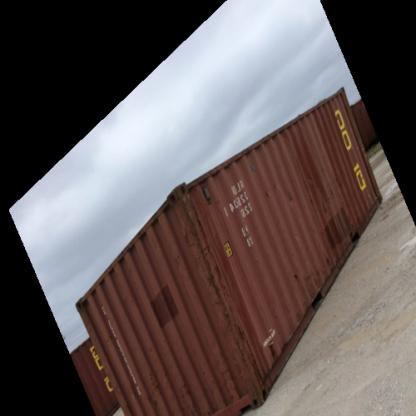Damage: (218, 306, 270, 414), (182, 196, 224, 303), (124, 365, 166, 414), (298, 160, 333, 199), (284, 255, 317, 288), (260, 175, 295, 206), (333, 210, 360, 241), (361, 179, 376, 204)
